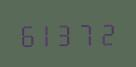one: (38, 20, 57, 47)
seven: (78, 19, 97, 46)
six: (18, 20, 37, 47)
three: (58, 20, 77, 46)
two: (98, 19, 117, 46)
